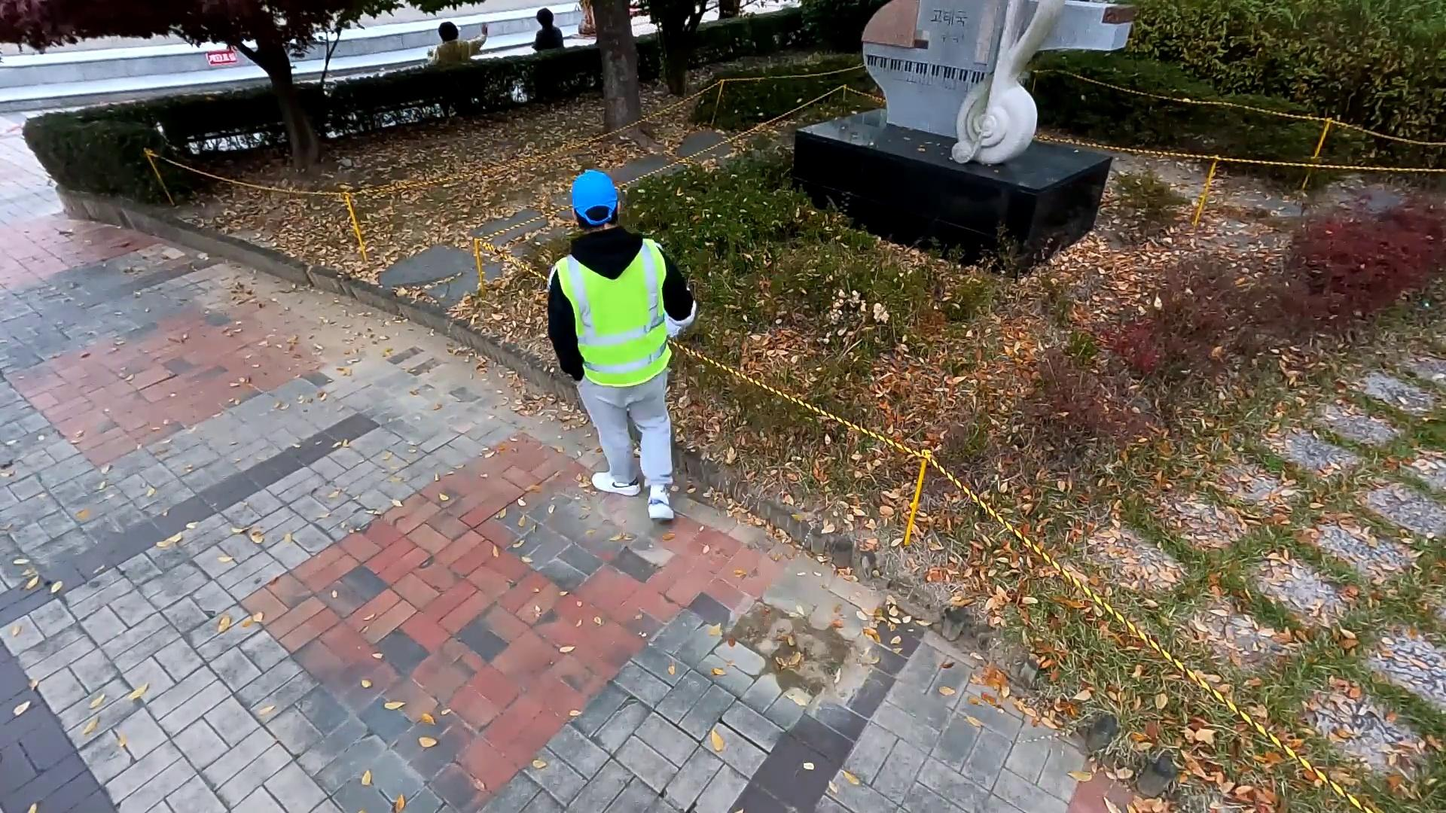person: (550, 167, 699, 525)
